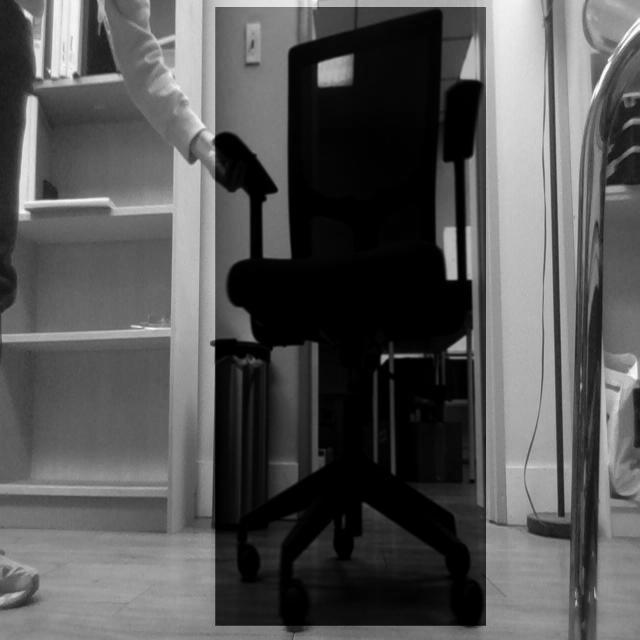chair: (212, 5, 483, 640)
